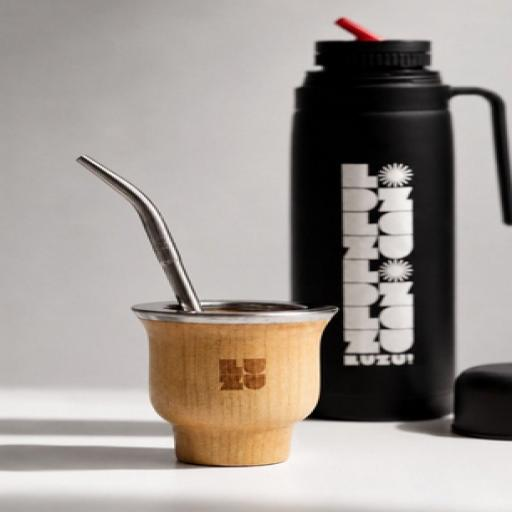mate: (133, 302, 336, 466)
termo: (292, 40, 511, 420)
